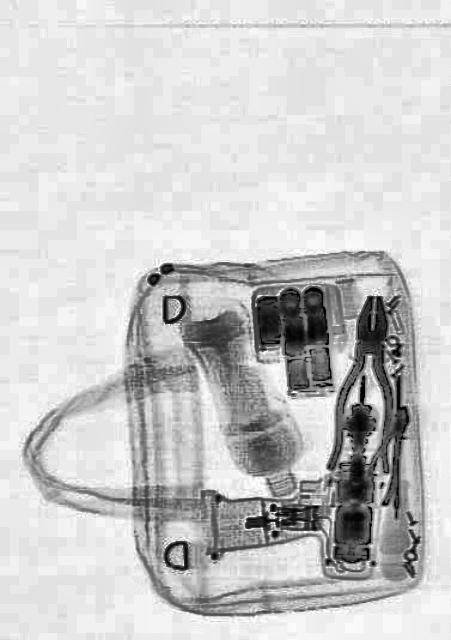Pliers: (326, 290, 404, 478), (358, 397, 420, 509)
